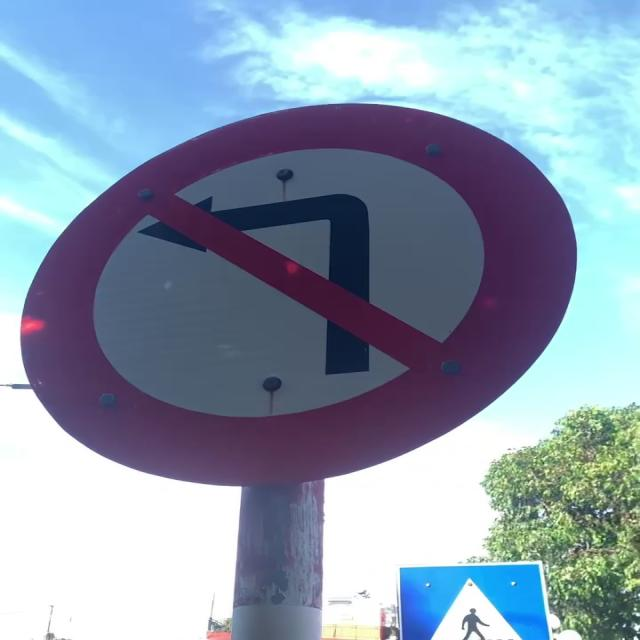Cam_Re_Trai: (18, 100, 578, 492)
